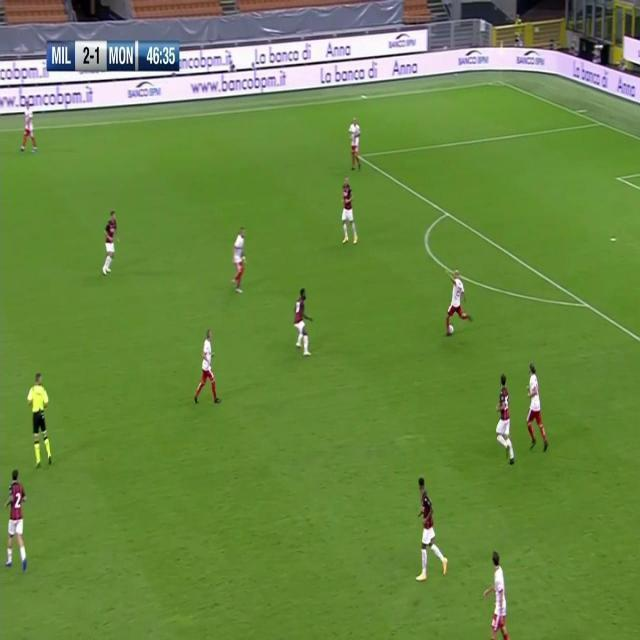ball: (448, 320, 455, 341)
player: (414, 476, 449, 584), (4, 464, 30, 572), (484, 550, 511, 640), (524, 362, 550, 452), (494, 373, 517, 469), (194, 329, 221, 406), (445, 267, 473, 334), (292, 286, 314, 359), (339, 175, 359, 248), (100, 209, 120, 277), (229, 226, 248, 296), (20, 98, 39, 155), (347, 115, 363, 173)
referee: (26, 369, 55, 470)
